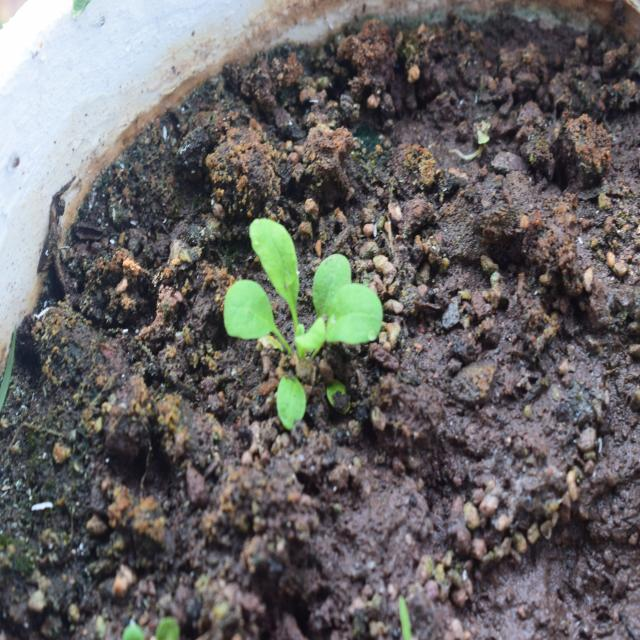Shepherd_Purse: (218, 221, 390, 411)
